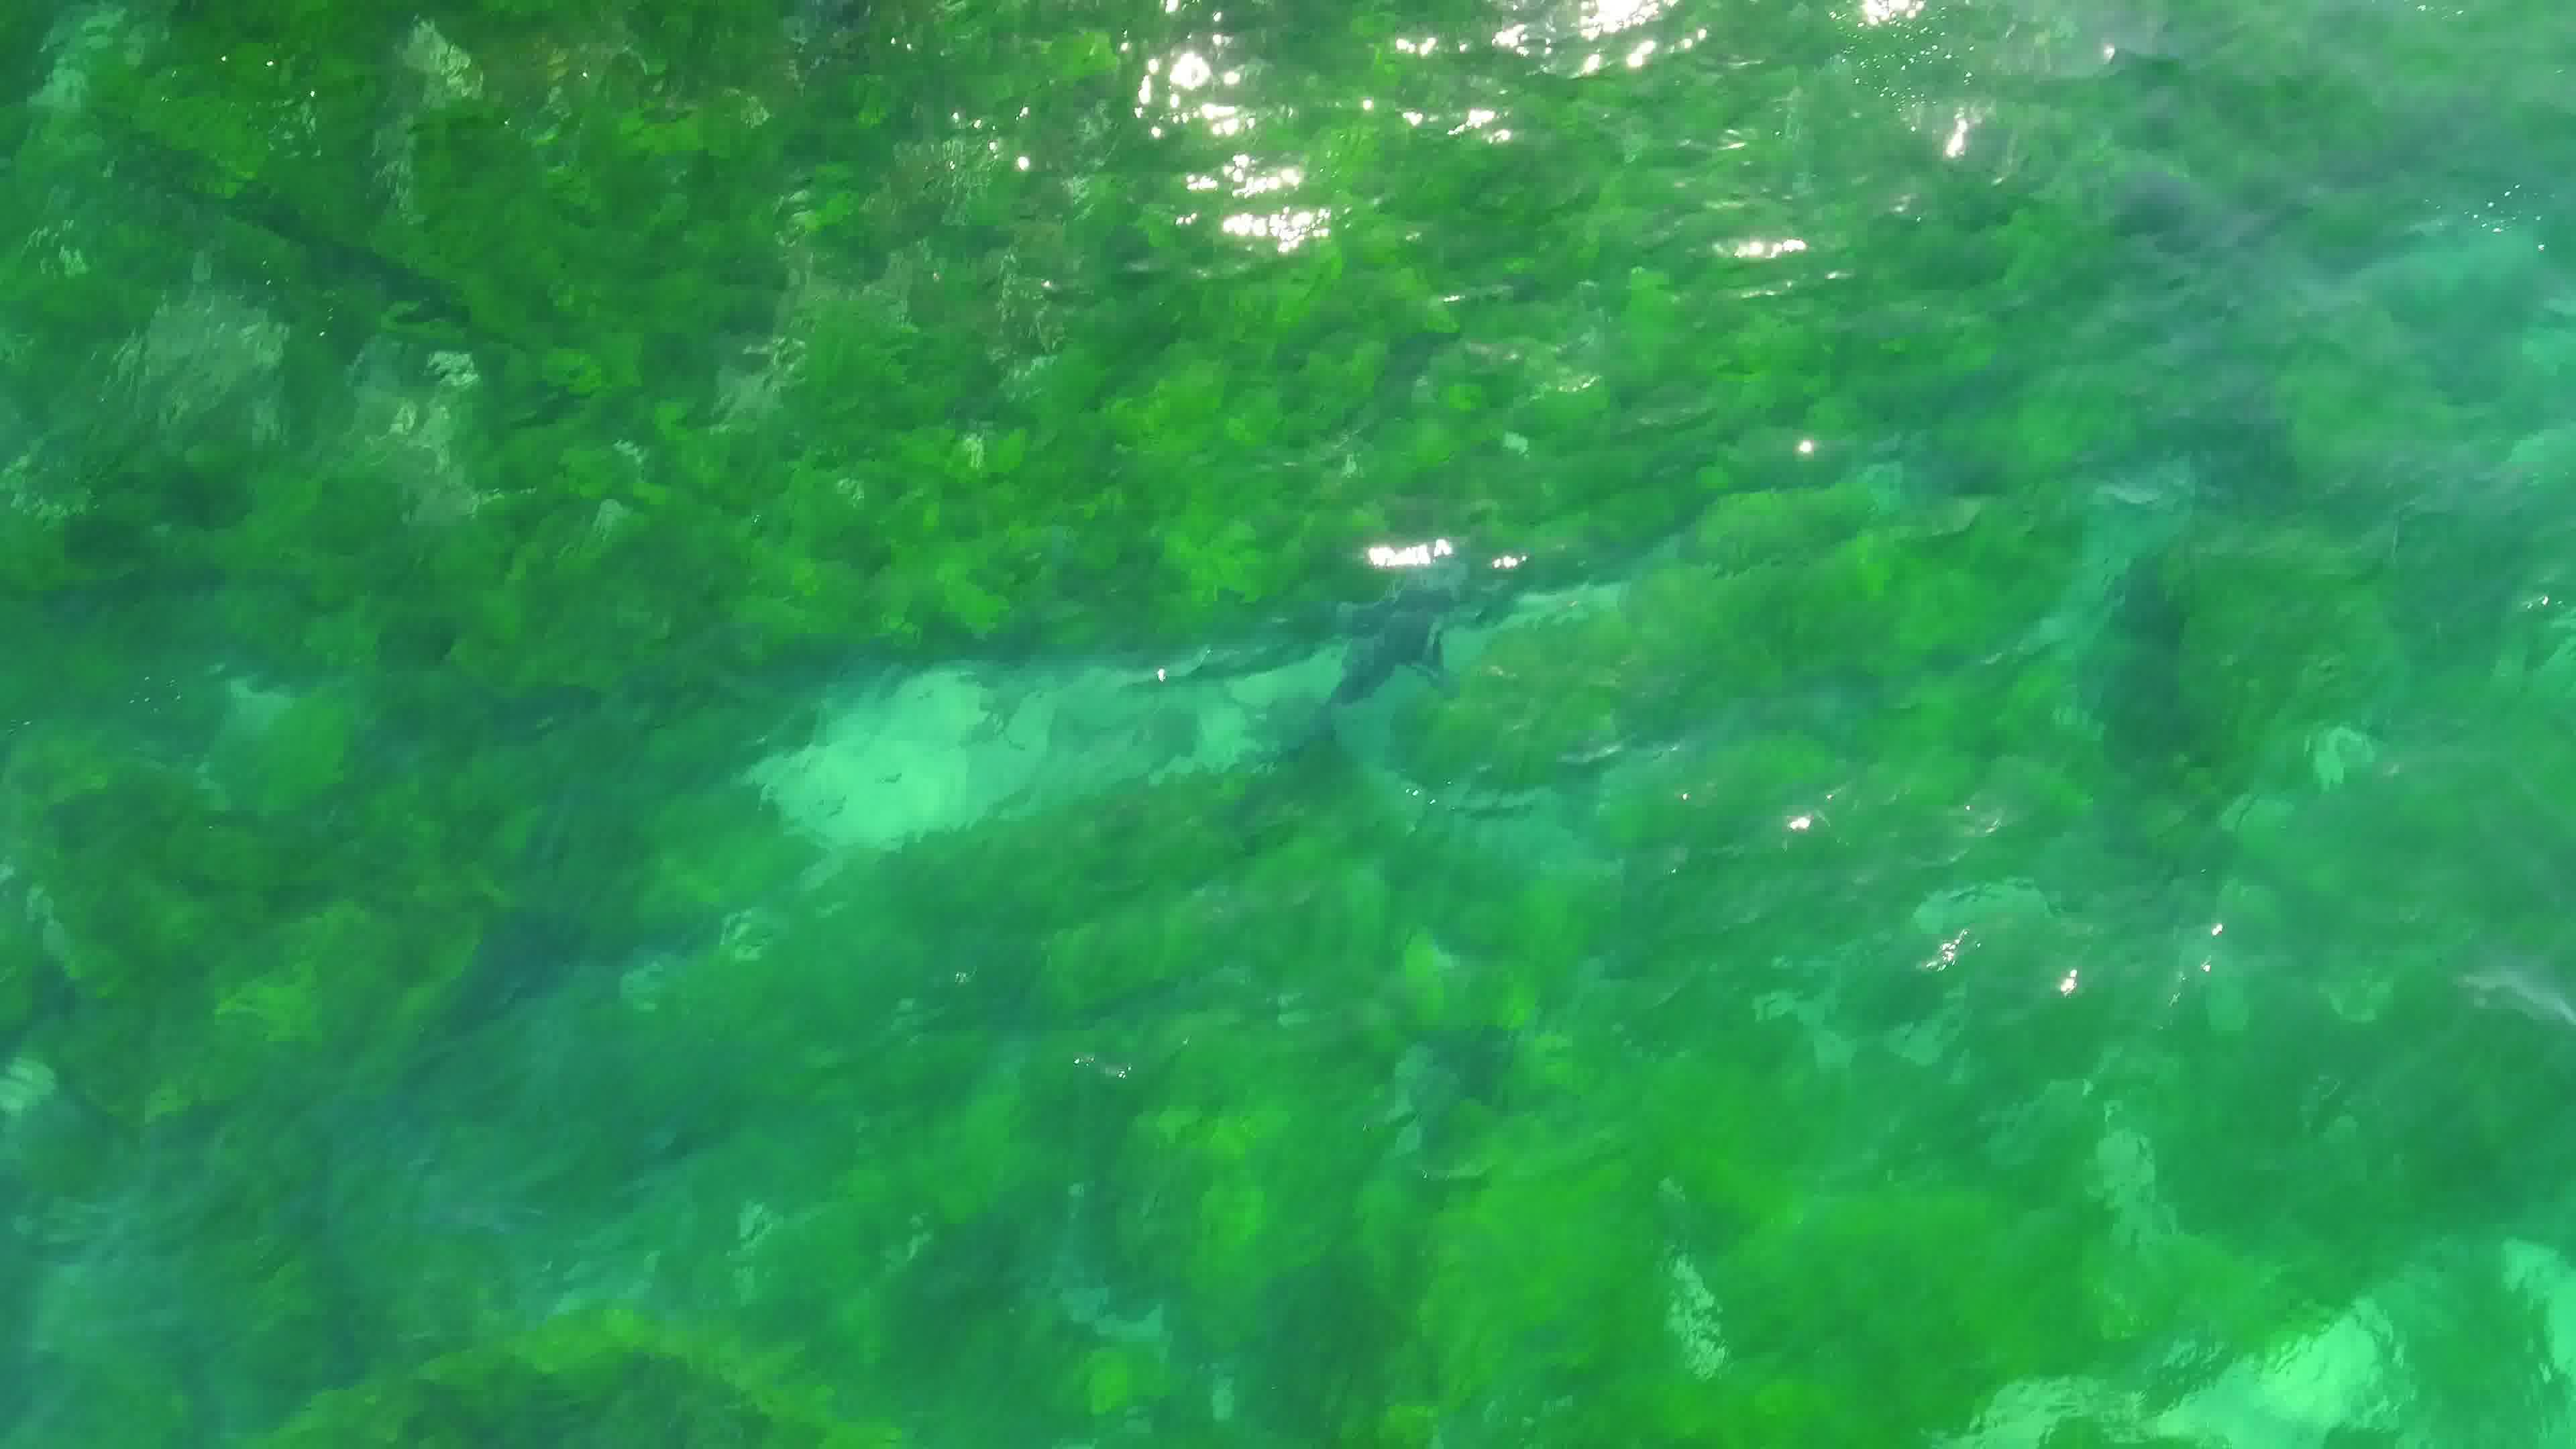shark: (1269, 533, 1468, 775)
